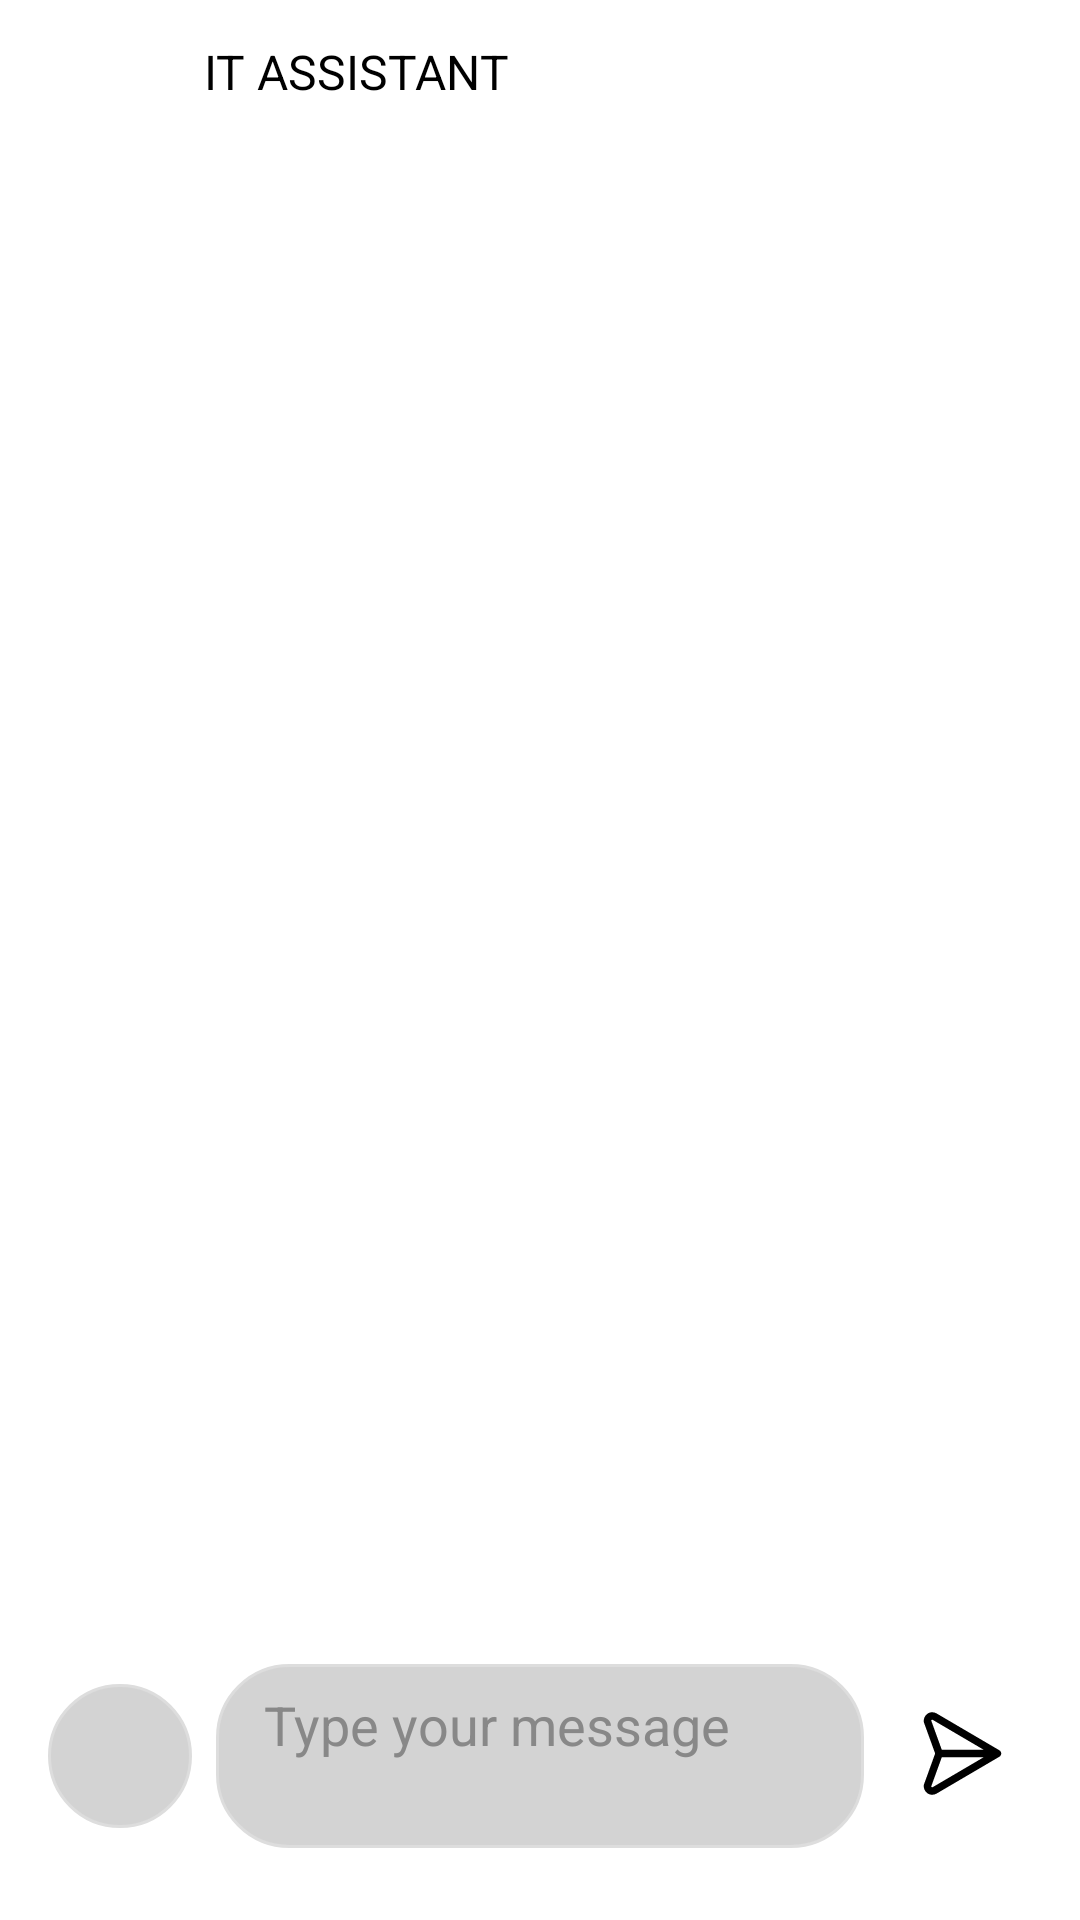

Where icons sit on this 1080×1920 app screen, as [x1=x1, y1=y1, x2=x2, y2=y2]:
Send message: [x1=923, y1=1712, x2=1002, y2=1795]
